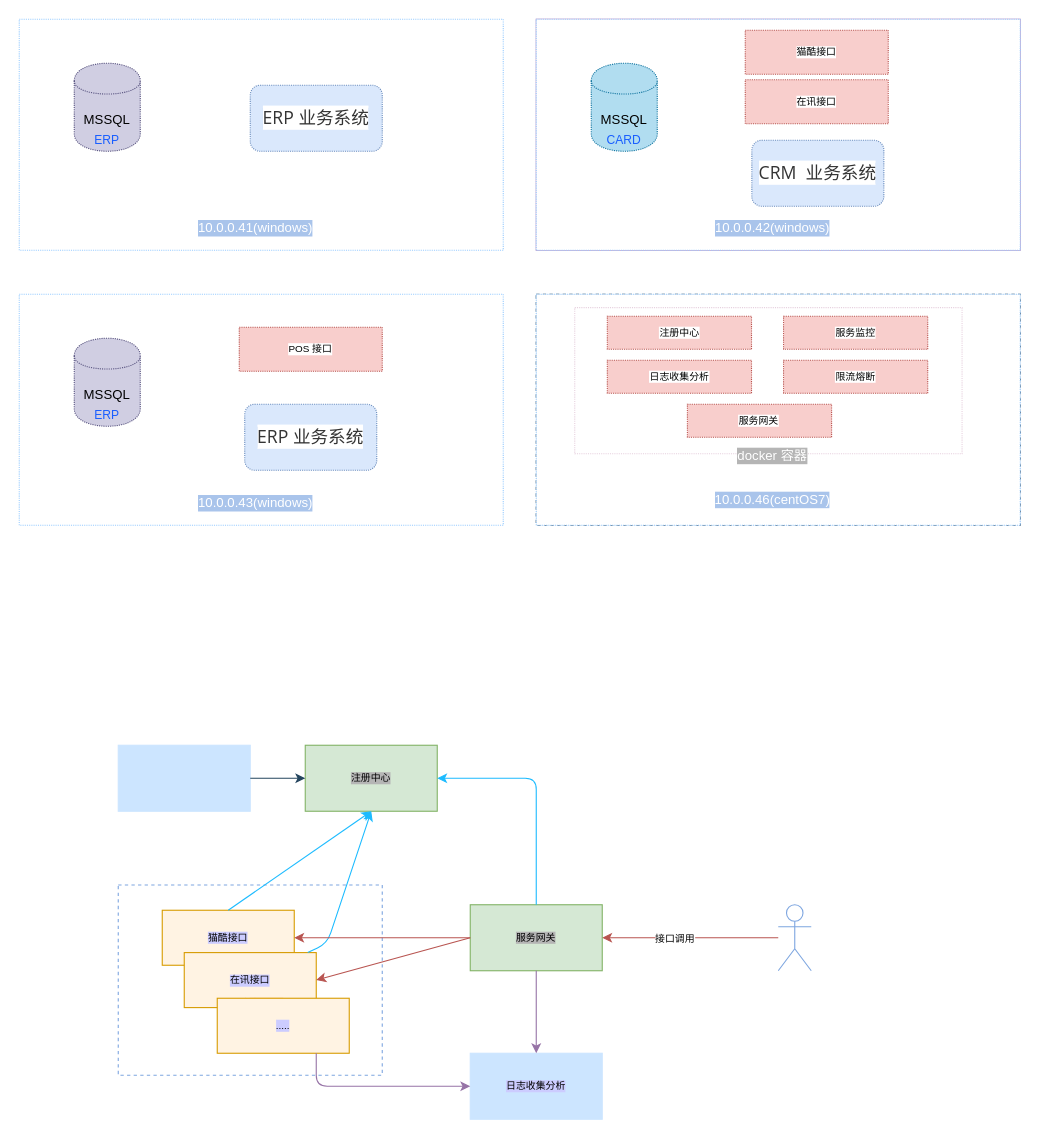
This 1040x1139 diagram has some shape labels left out. Each missing label, with the box of its shape:
Actor: (777, 904, 811, 971)
服务状态监控: (117, 744, 250, 811)
